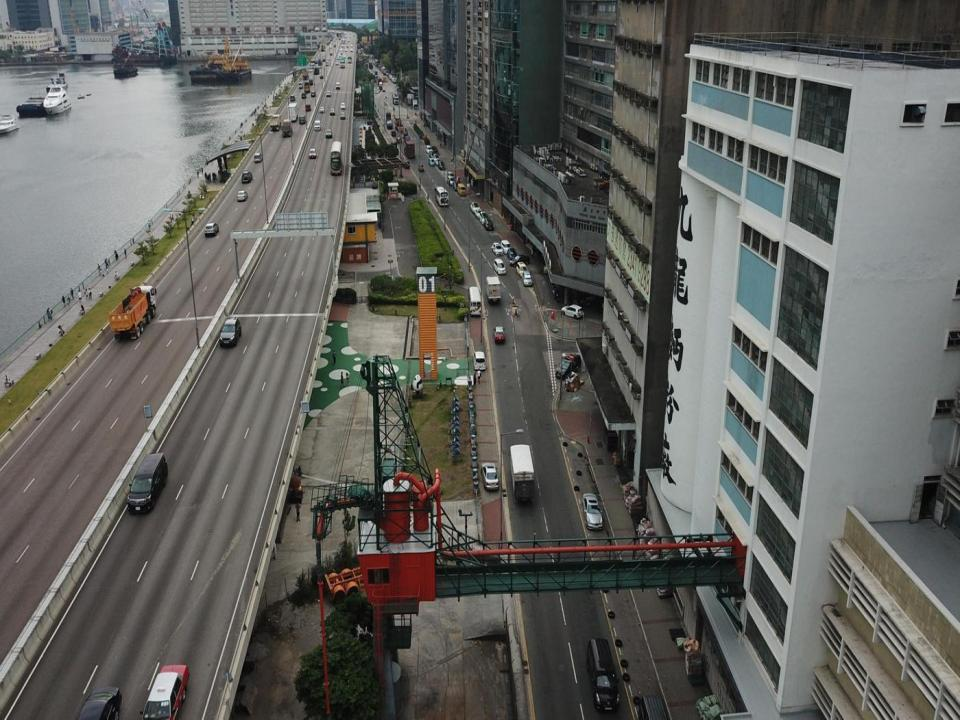bus: (330, 141, 343, 175), (434, 185, 449, 207), (347, 56, 352, 64)
car: (140, 663, 189, 719), (75, 686, 121, 719), (580, 492, 604, 531), (216, 317, 241, 349), (556, 353, 582, 379), (481, 459, 499, 492), (561, 303, 583, 319), (204, 222, 220, 239), (510, 253, 528, 268), (473, 351, 486, 371), (492, 326, 506, 344), (492, 258, 506, 275), (516, 261, 528, 279), (240, 170, 253, 185), (499, 238, 510, 255), (522, 270, 532, 287), (479, 209, 488, 226), (469, 200, 479, 215), (492, 242, 502, 256), (237, 190, 248, 202), (308, 147, 318, 160), (506, 247, 516, 260), (253, 152, 263, 164), (314, 120, 322, 132), (432, 154, 440, 166), (438, 158, 445, 171), (338, 110, 346, 121), (446, 170, 454, 181), (298, 113, 305, 125), (324, 129, 332, 139), (447, 174, 453, 187), (428, 156, 435, 167), (475, 209, 483, 218), (318, 104, 325, 113), (386, 120, 393, 129), (425, 144, 431, 154), (290, 95, 297, 102), (340, 101, 346, 109), (325, 90, 331, 98), (301, 92, 307, 100), (308, 78, 314, 86), (329, 107, 334, 116), (310, 90, 315, 98), (319, 73, 324, 81), (396, 136, 401, 144), (391, 128, 396, 136), (335, 82, 340, 89), (298, 82, 303, 89), (325, 60, 330, 67), (334, 59, 338, 66), (418, 163, 422, 170)
truck: (108, 285, 158, 341), (508, 442, 535, 506), (484, 274, 502, 305), (402, 140, 415, 160), (281, 117, 293, 137), (268, 113, 281, 131), (288, 102, 299, 122), (302, 68, 308, 80), (339, 56, 345, 68), (385, 110, 391, 122)
van: (125, 450, 171, 513), (585, 635, 620, 712), (467, 286, 482, 317), (457, 182, 465, 196)
